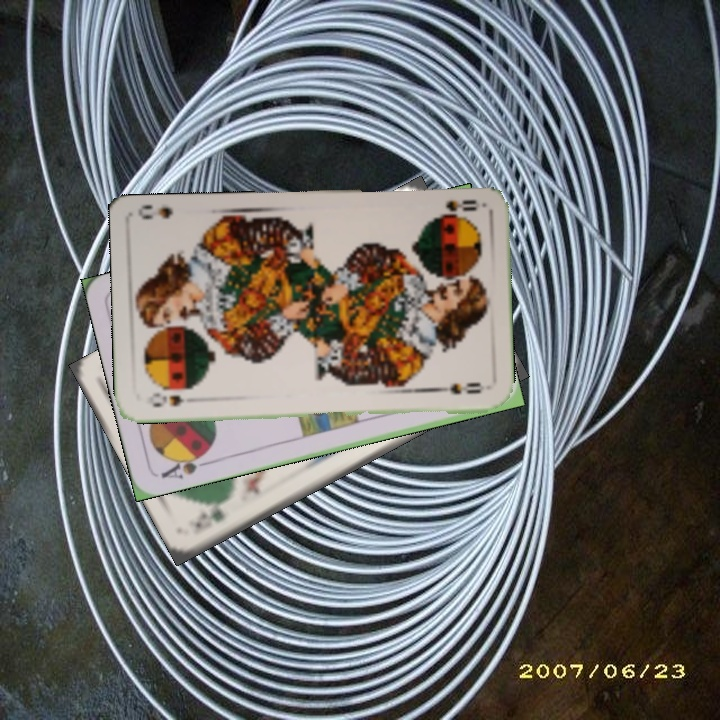GK: (191, 504, 229, 532)
SA: (156, 447, 213, 482)
SO: (429, 196, 480, 221), (144, 389, 187, 409)
